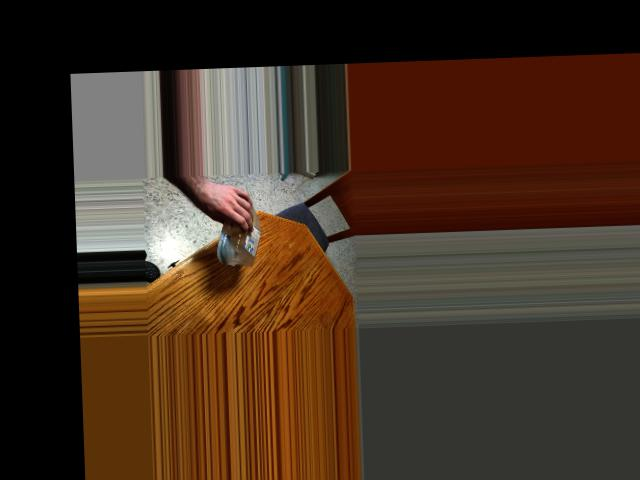cheese: (209, 190, 263, 255)
